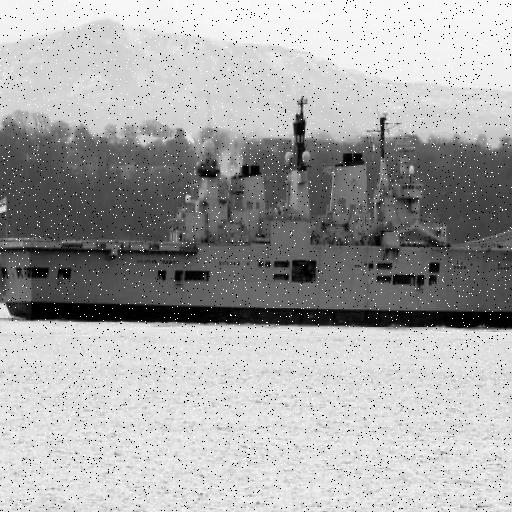Portanaves: (1, 80, 512, 328)
